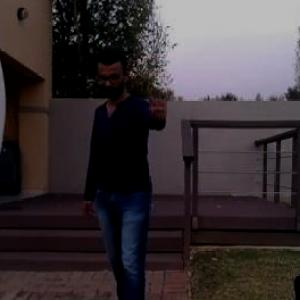takeoff-hand: (142, 73, 174, 126)
